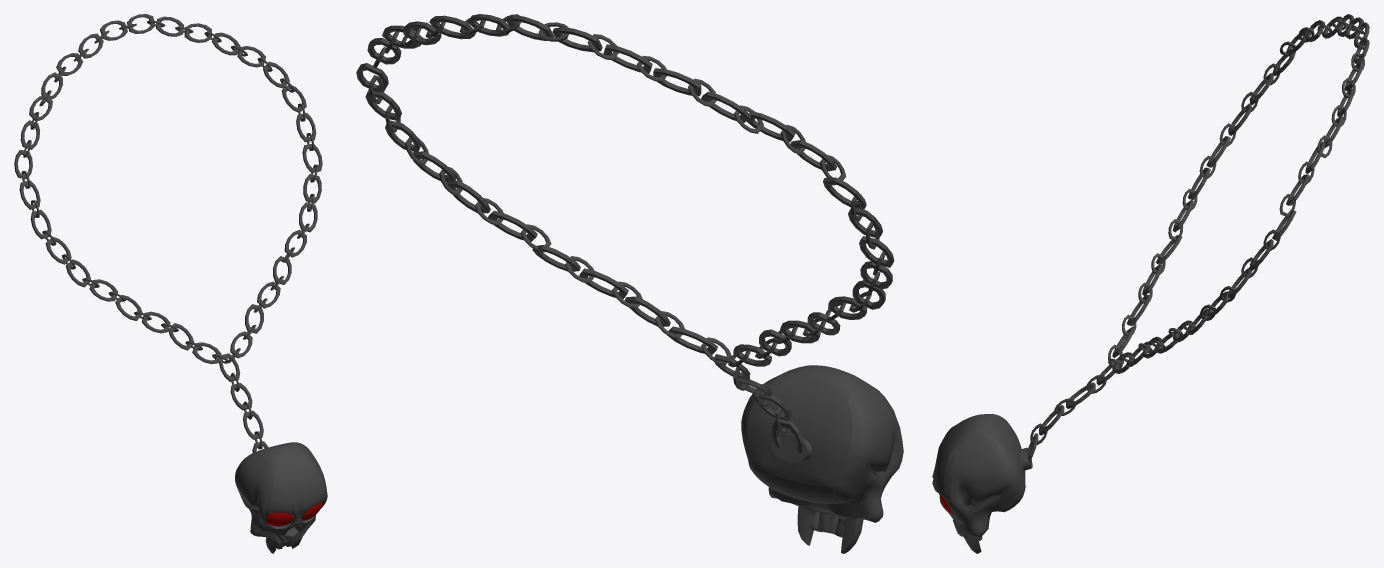
The model's file is CollarSkull.FBX.
The picture shows the model from 3 angles, left to right: view 1: azimuth 30°, elevation 25°; view 2: azimuth 150°, elevation 25°; view 3: azimuth 270°, elevation 25°; orthographic projection. The views are drawn at different scales.
Parts seen in each view (by area): view 1: necklaceRender:chain, necklaceRender:Skull; view 2: necklaceRender:chain, necklaceRender:Skull, necklaceRender:pCylinder1; view 3: necklaceRender:chain, necklaceRender:Skull.
Part boxes in pixels (x1=…): necklaceRender:chain: x1=14, y1=14, x2=322, y2=452; necklaceRender:Skull: x1=235, y1=442, x2=327, y2=553; necklaceRender:chain: x1=356, y1=14, x2=894, y2=452; necklaceRender:Skull: x1=741, y1=365, x2=903, y2=553; necklaceRender:pCylinder1: x1=770, y1=434, x2=812, y2=462; necklaceRender:chain: x1=1028, y1=14, x2=1369, y2=462; necklaceRender:Skull: x1=932, y1=414, x2=1025, y2=553.
Bounding box in the file's own units: 157 × 214 × 165.
